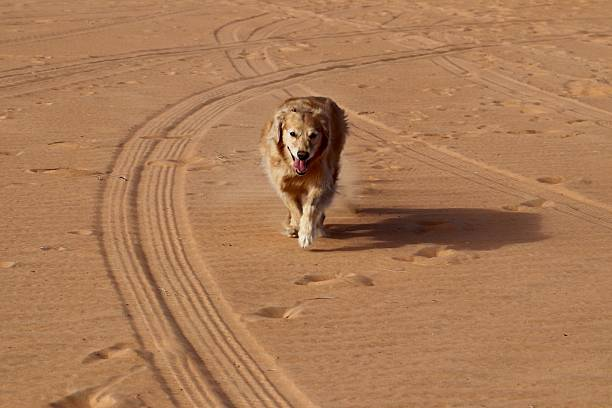vehicle_track: (102, 53, 414, 406)
